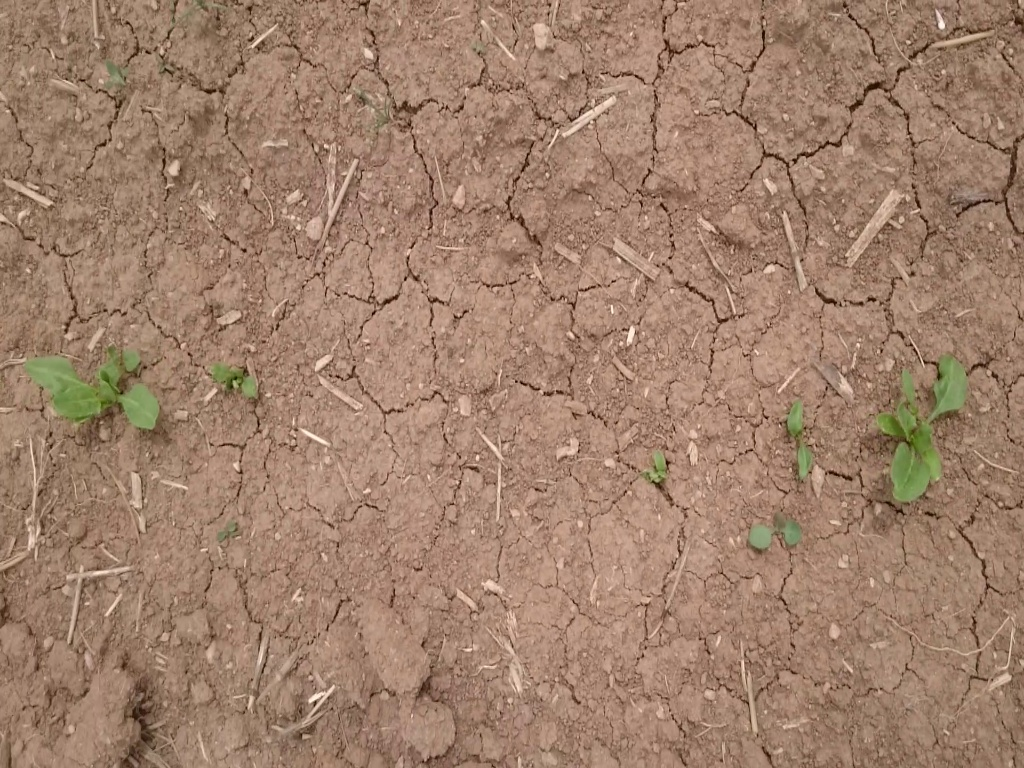sugar_beet: (15, 344, 166, 439), (882, 360, 972, 507)
